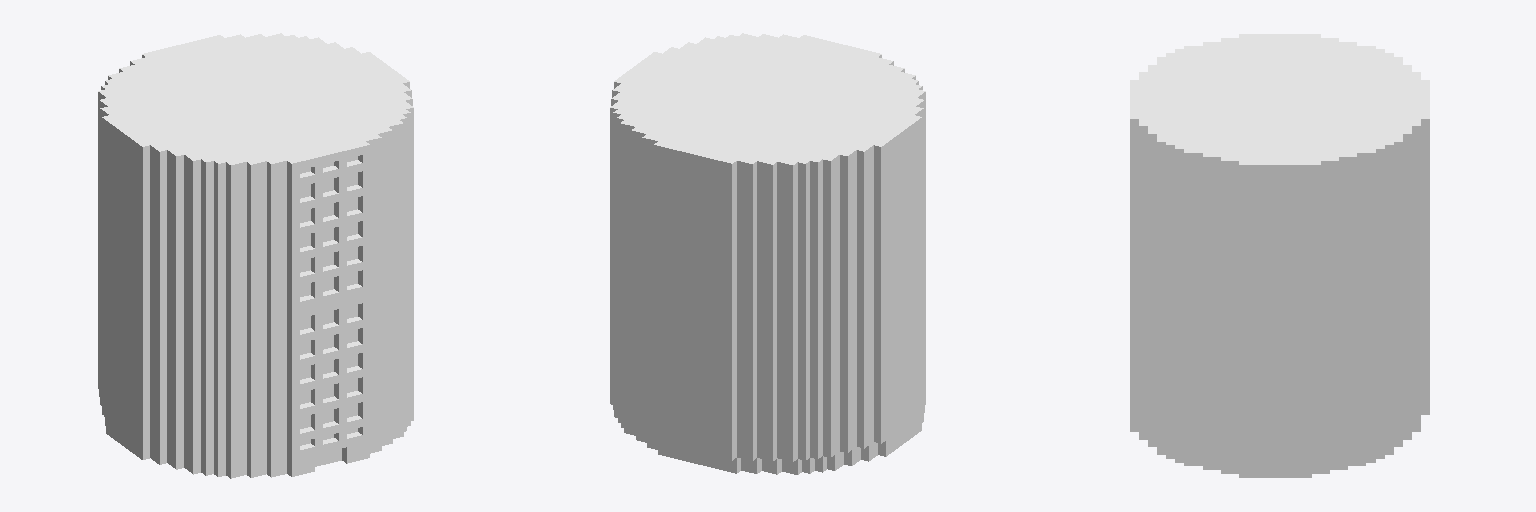
Rendered from bldg-tan.obj.
3 renders of one model, left to right at view 1: azimuth 30°, elevation 25°; view 2: azimuth 150°, elevation 25°; view 3: azimuth 270°, elevation 25°, orthographic.
Bounding box in the file's own units: 34 × 38 × 33.